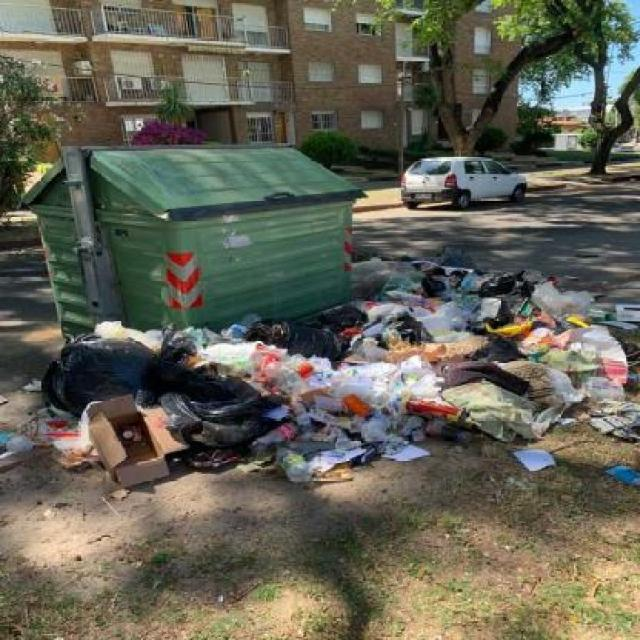garbage: (28, 337, 640, 488), (365, 243, 639, 417), (3, 366, 126, 518)
